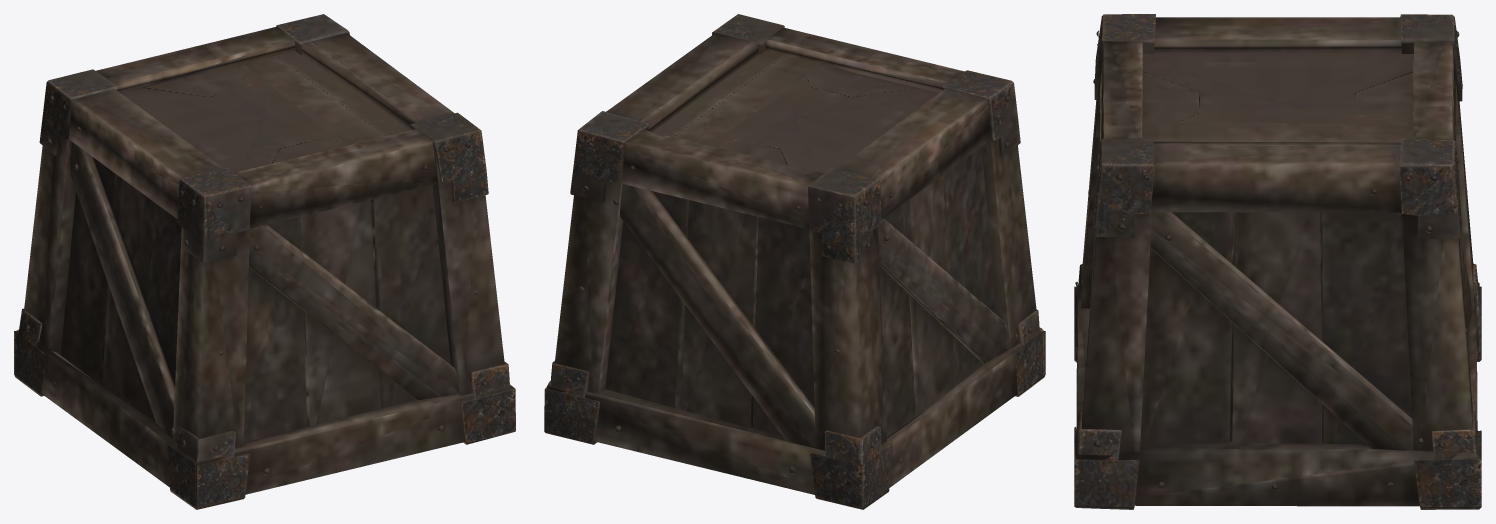
Rendered from d_box_large.glb.
3 views of the same model, side by side, from view 1: azimuth 30°, elevation 25°; view 2: azimuth 150°, elevation 25°; view 3: azimuth 270°, elevation 25° (orthographic). The views are drawn at different scales.
Visible parts, largest first — view 1: d_box_large; view 2: d_box_large; view 3: d_box_large.
Boxes of the visible parts, x1=… form: d_box_large: x1=14, y1=14, x2=515, y2=509; d_box_large: x1=544, y1=14, x2=1045, y2=509; d_box_large: x1=1074, y1=14, x2=1481, y2=509.
Bounding box in the file's own units: 1.5 × 1.36 × 1.5.
Materials: 1 (1 with a texture image).
